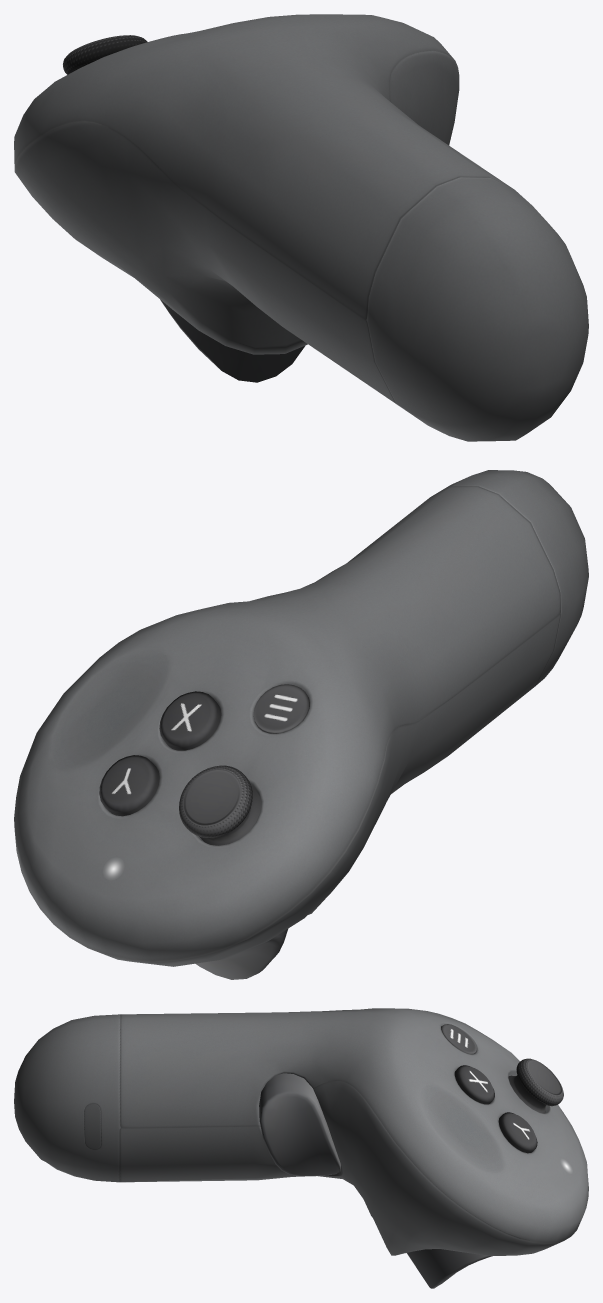
The model's file is left.glb.
3 renders of one model, top to bottom at view 1: azimuth 30°, elevation 25°; view 2: azimuth 150°, elevation 25°; view 3: azimuth 270°, elevation 25°, orthographic. The views are drawn at different scales.
Visible parts, largest first — view 1: L_body, L_trigger, L_thumbStick; view 2: L_body, L_thumbStick, L_upperButton, L_lowerButton, L_menuButton, L_trigger; view 3: L_body, L_grip, L_thumbStick, L_trigger, L_upperButton, L_lowerButton, L_menuButton.
Part boxes in pixels (<box>): L_body: <box>14,14,588,441</box>; L_trigger: <box>160,299,304,382</box>; L_thumbStick: <box>63,35,147,74</box>; L_body: <box>14,470,588,966</box>; L_thumbStick: <box>179,765,261,845</box>; L_upperButton: <box>99,755,159,816</box>; L_lowerButton: <box>159,691,221,750</box>; L_menuButton: <box>253,684,309,733</box>; L_trigger: <box>195,929,287,979</box>; L_body: <box>14,1008,588,1255</box>; L_grip: <box>259,1073,340,1176</box>; L_thumbStick: <box>508,1058,563,1113</box>; L_trigger: <box>407,1249,492,1288</box>; L_upperButton: <box>498,1112,537,1153</box>; L_lowerButton: <box>454,1065,494,1104</box>; L_menuButton: <box>441,1024,476,1054</box>.
Bounding box in the file's own units: 0.0654 × 0.0623 × 0.1282.
Materials: 2 (2 with a texture image).
